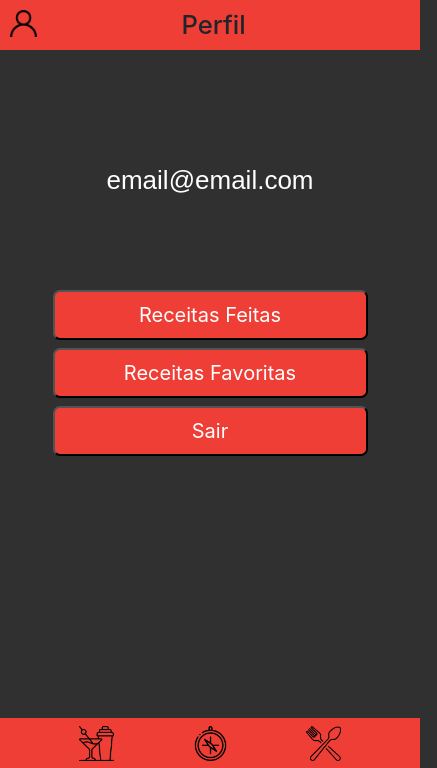
Test case: 1- Verifica se o email correto aparece na tela › 1.3- verifica se o botão de Receitas favoritas funciona
Click the button with test id "profile-favorite-btn": (210, 373) 52,348 -> 368,398
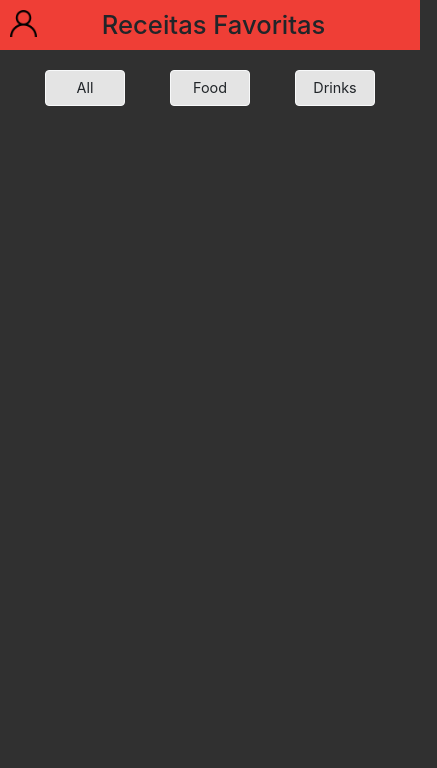
Result: the heading "Receitas Favoritas" is shown at 102,10 -> 325,41
